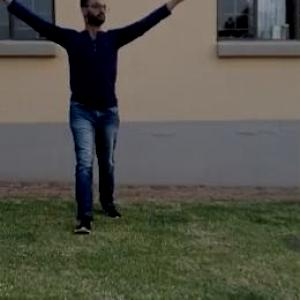takeoff: (0, 0, 216, 245)
